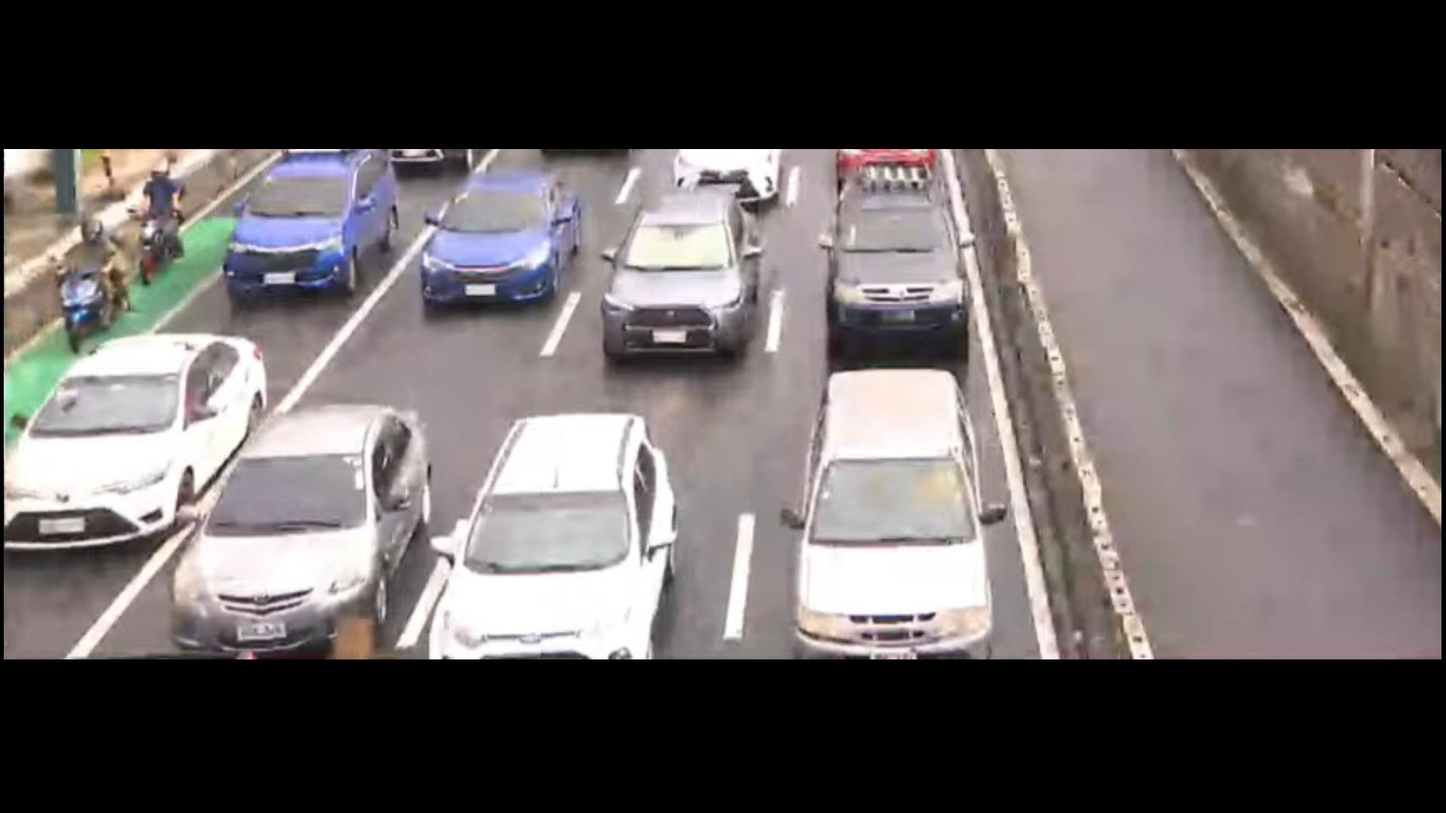Motorcycle: (173, 403, 442, 634), (0, 324, 267, 553), (827, 183, 966, 352), (416, 173, 580, 297), (49, 218, 121, 340), (128, 158, 188, 283)
SUV: (418, 406, 682, 657), (785, 365, 992, 655), (224, 158, 403, 297), (602, 192, 763, 341)
